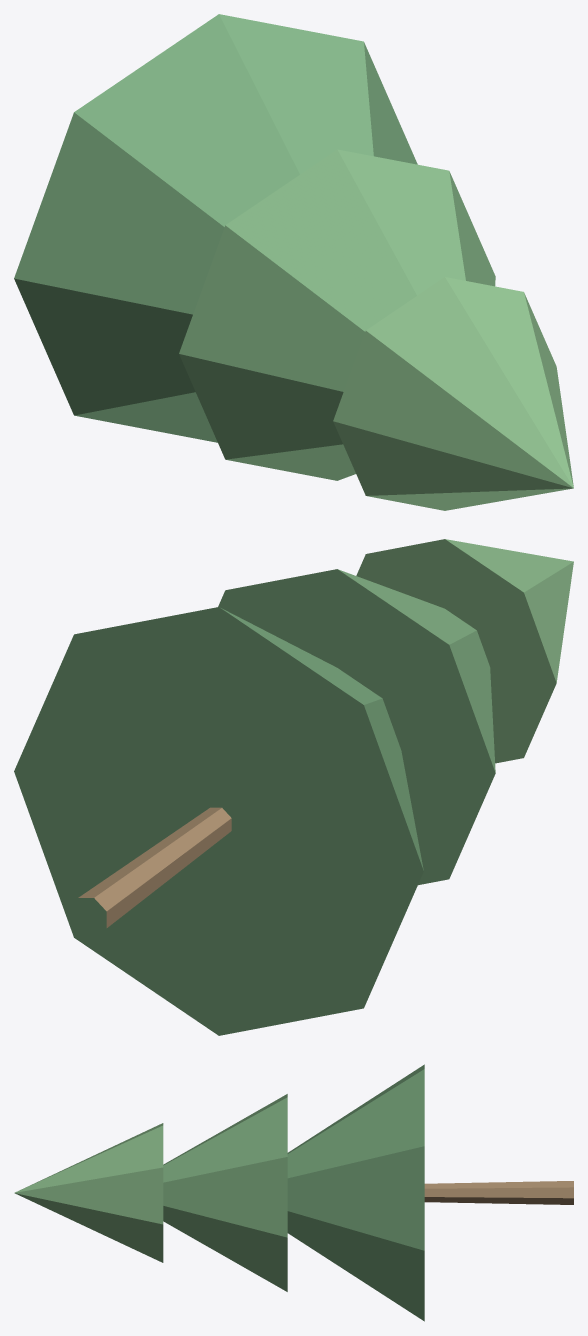
The model's file is tree-pine.glb.
3 renders of one model, top to bottom at view 1: azimuth 30°, elevation 25°; view 2: azimuth 150°, elevation 25°; view 3: azimuth 270°, elevation 25°, orthographic. The views are drawn at different scales.
Bounding box in the file's own units: 4.4 × 4.4 × 9.
